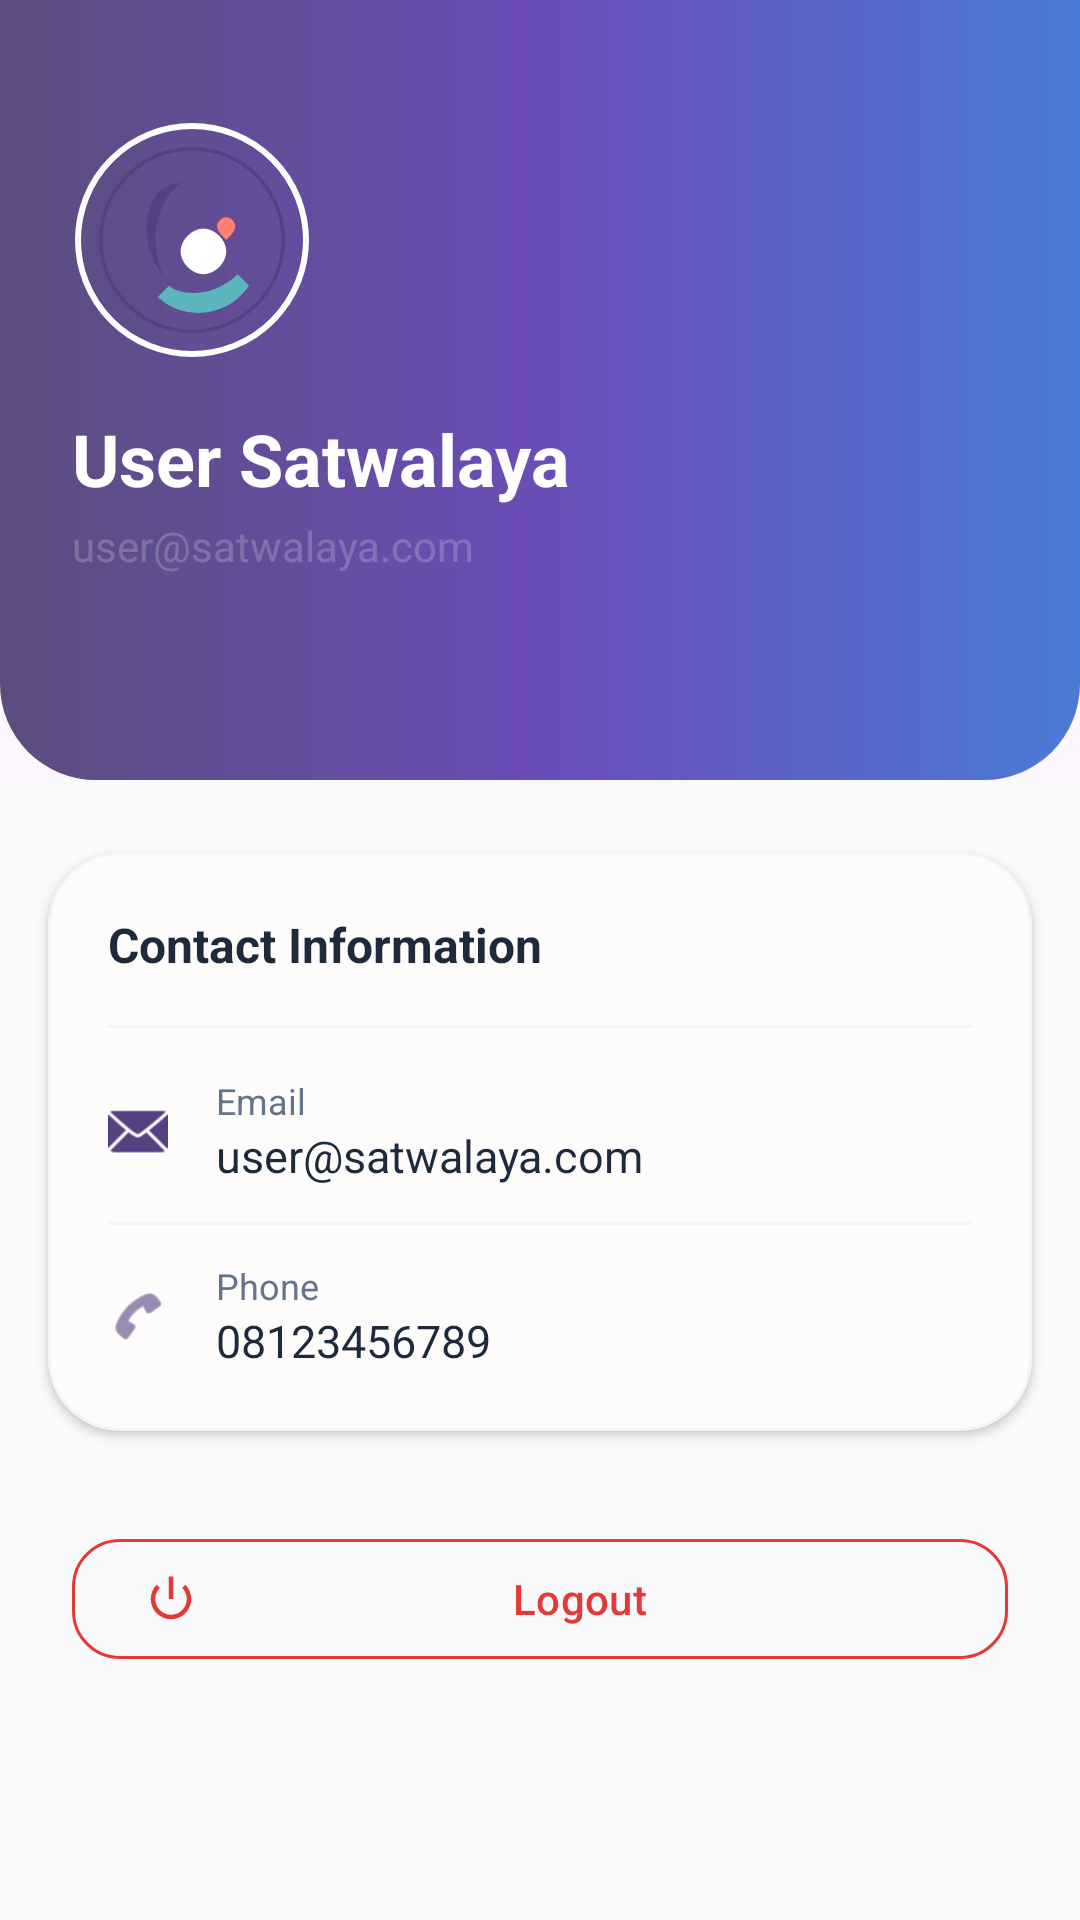

Point at icon controls on the screen. Image size 1080 × 1920, points as (x=x, y=y).
call: (x=138, y=1316)
